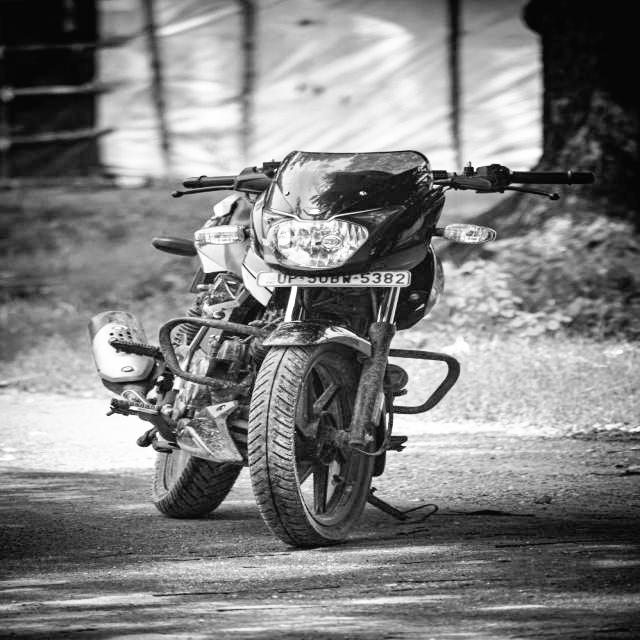Bike: (122, 150, 502, 568)
